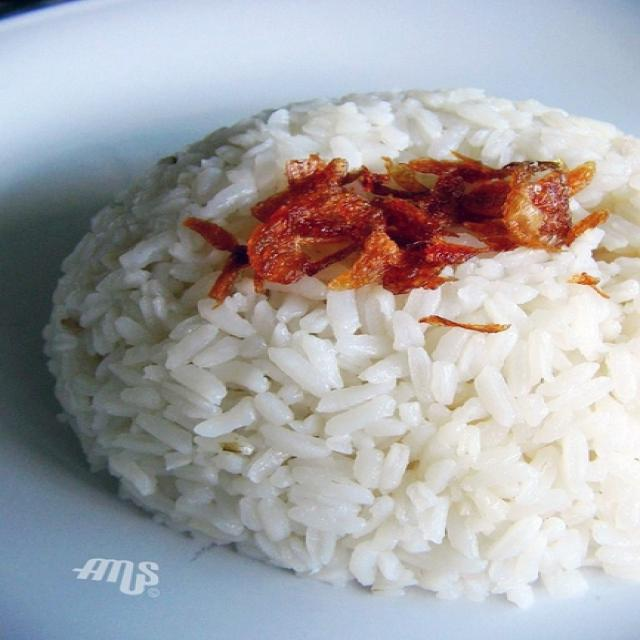米饭主食: (27, 34, 618, 599)
